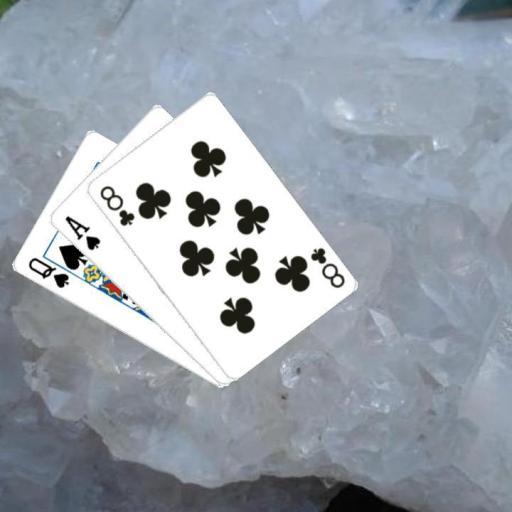8C: (96, 182, 136, 228), (307, 244, 347, 290)
AS: (61, 213, 102, 253)
QS: (25, 254, 71, 290)
